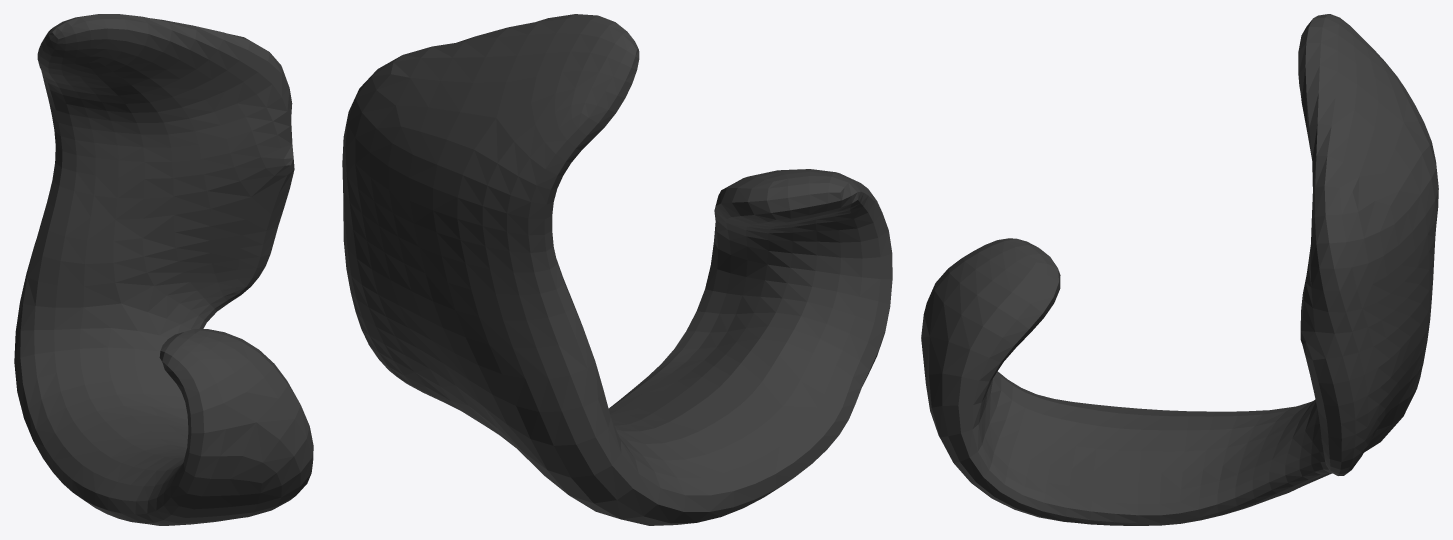
The model's file is spleen_LP.glb.
The picture shows the model from 3 angles, left to right: view 1: azimuth 30°, elevation 25°; view 2: azimuth 150°, elevation 25°; view 3: azimuth 270°, elevation 25°; orthographic projection. The views are drawn at different scales.
Visible parts, largest first — view 1: spleen_LP; view 2: spleen_LP; view 3: spleen_LP.
Boxes of the visible parts, box(x1,y1,x2,y2) form: spleen_LP: box(14, 14, 313, 525); spleen_LP: box(342, 14, 892, 525); spleen_LP: box(921, 14, 1438, 525).
Bounding box in the file's own units: 0.00758 × 0.0105 × 0.0101.
Materials: 1 (1 with a texture image).
